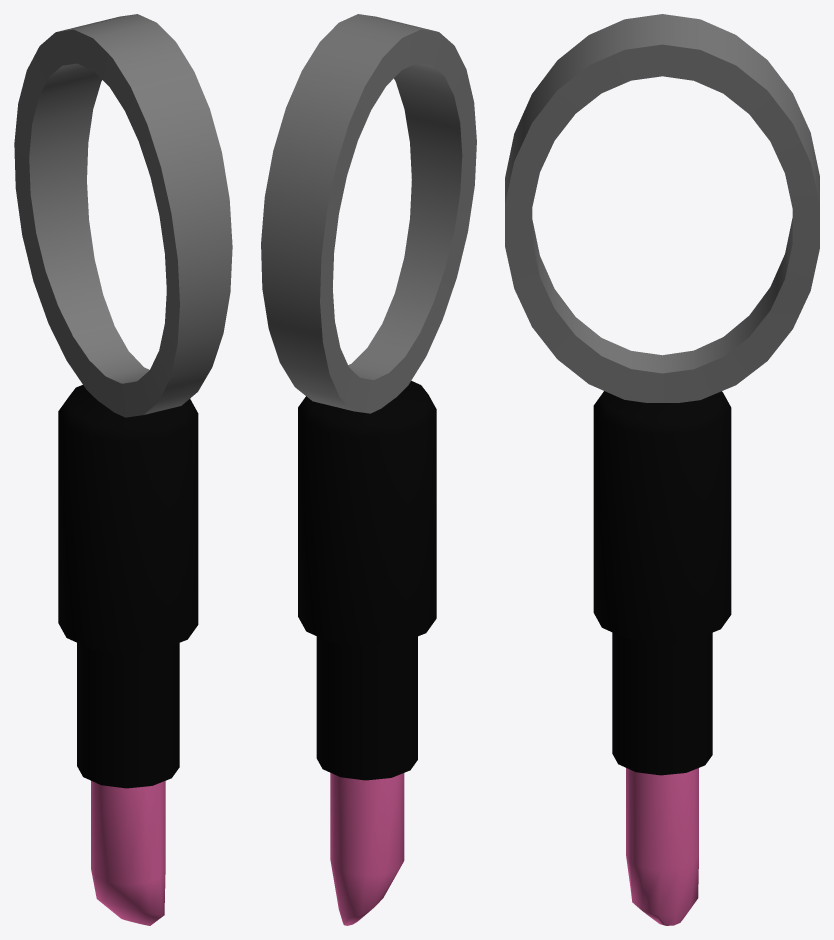
File: Small_Lipstick_Bead.fbx
3 renders of one model, left to right at view 1: azimuth 30°, elevation 25°; view 2: azimuth 150°, elevation 25°; view 3: azimuth 270°, elevation 25°, orthographic.
Parts seen in each view (by area): view 1: Cylinder.002, Sword.002; view 2: Cylinder.002, Sword.002; view 3: Cylinder.002, Sword.002.
Boxes of the visible parts, x1=… form: Cylinder.002: x1=58, y1=385, x2=198, y2=925; Sword.002: x1=14, y1=14, x2=232, y2=417; Cylinder.002: x1=298, y1=381, x2=436, y2=925; Sword.002: x1=261, y1=14, x2=476, y2=413; Cylinder.002: x1=593, y1=391, x2=731, y2=925; Sword.002: x1=505, y1=14, x2=819, y2=402.
Bounding box in the file's own units: 6 × 42.65 × 13.74.
